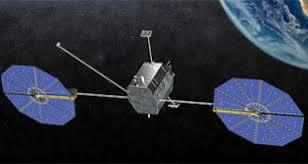antenna: (55, 40, 127, 94), (139, 28, 156, 63), (167, 95, 183, 112)
body: (126, 59, 176, 118)
solar: (212, 75, 306, 149), (0, 63, 79, 127)
